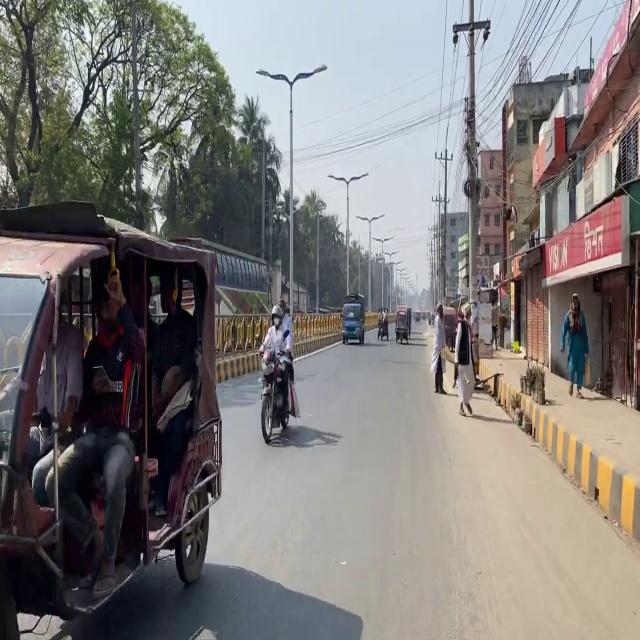Broken-road: (328, 290, 376, 350)
Construction-barrier: (550, 430, 640, 512), (214, 348, 261, 382)
Fallen-tree: (257, 346, 297, 444)
Garbage-bin: (35, 267, 147, 598), (258, 305, 294, 417), (560, 292, 589, 398), (453, 303, 479, 416)
Pothole: (518, 372, 640, 562)
Traffic-cone: (0, 199, 223, 637)
